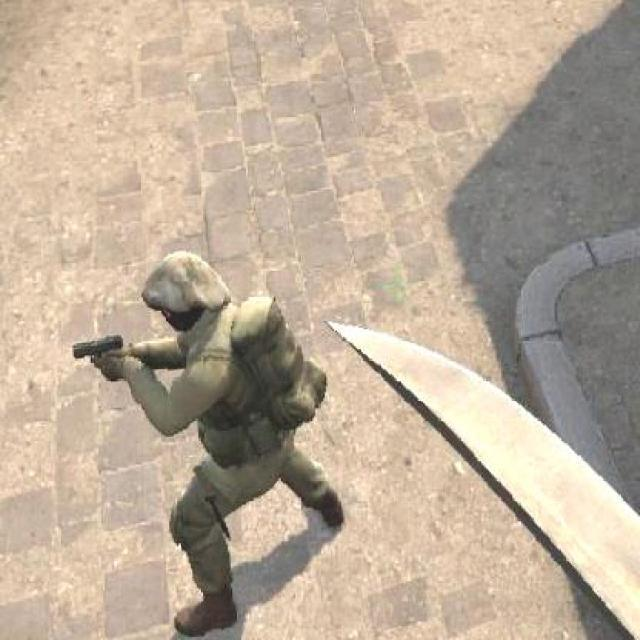CT: (82, 243, 376, 545)
CT_HEAD: (144, 263, 218, 325)
